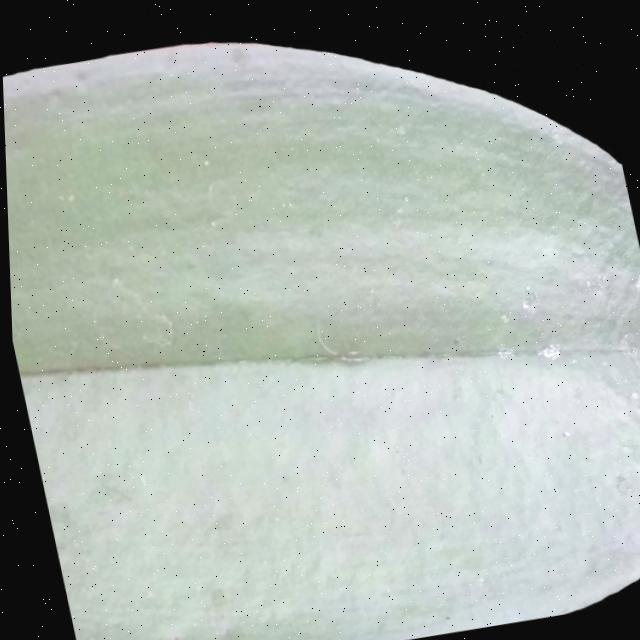mite: (145, 543, 468, 640), (425, 572, 493, 626), (513, 282, 542, 315), (548, 420, 576, 446), (607, 470, 630, 497), (441, 329, 468, 351), (54, 187, 79, 209), (202, 586, 224, 610), (431, 607, 453, 626), (553, 425, 571, 441), (628, 271, 640, 294), (446, 333, 463, 347), (61, 191, 76, 204), (198, 156, 212, 169), (436, 611, 448, 622), (556, 427, 568, 438), (449, 335, 460, 345)
